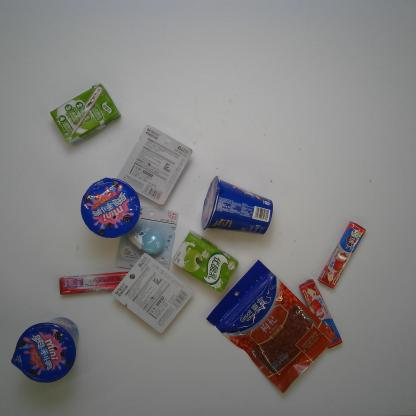Candy: (318, 220, 366, 289), (298, 278, 343, 350), (58, 273, 136, 298)
Dessert: (11, 316, 78, 384), (201, 176, 275, 236), (79, 177, 140, 239)
Dried Fruit: (204, 260, 337, 393)
Milk: (48, 82, 121, 146), (170, 229, 242, 292)
Stationery: (111, 252, 194, 335), (116, 124, 194, 206), (110, 203, 181, 272)
